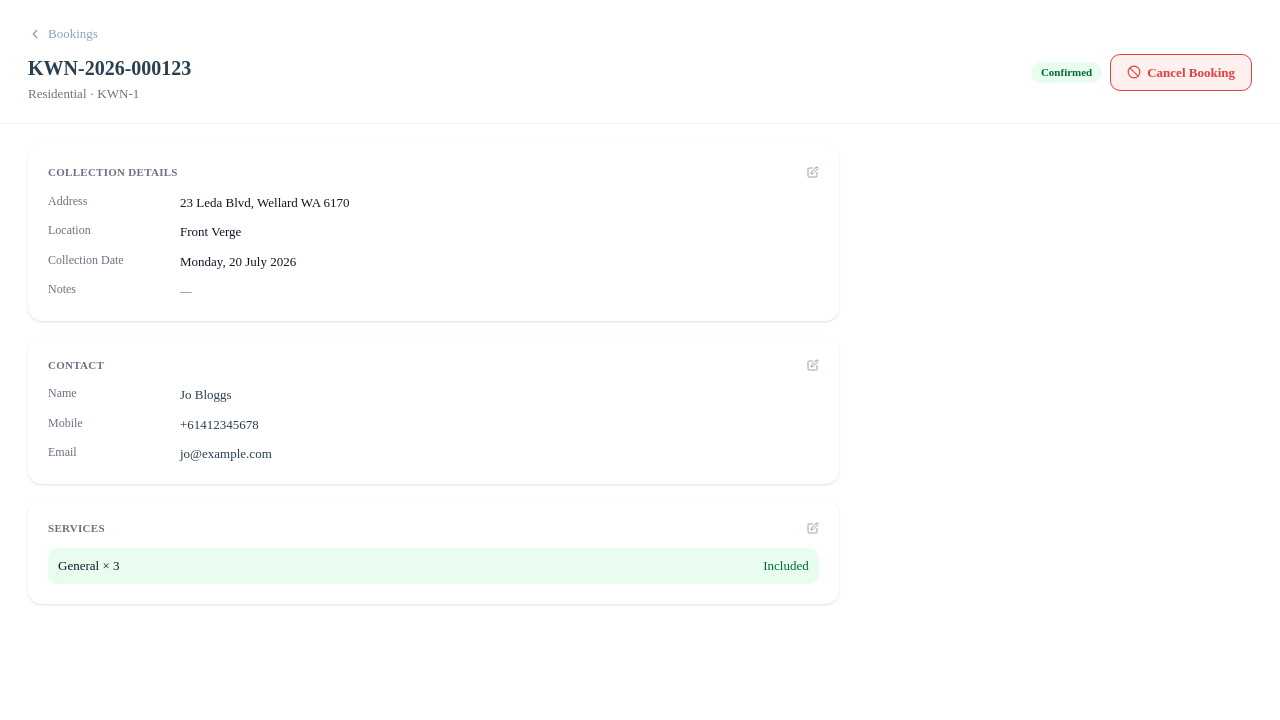
Test case: admin Collection Details editor — staff-only "Other" location › offers "Other" to contractor-admin
Click the button named "Edit collection details": (813, 172) [807, 166, 819, 178]
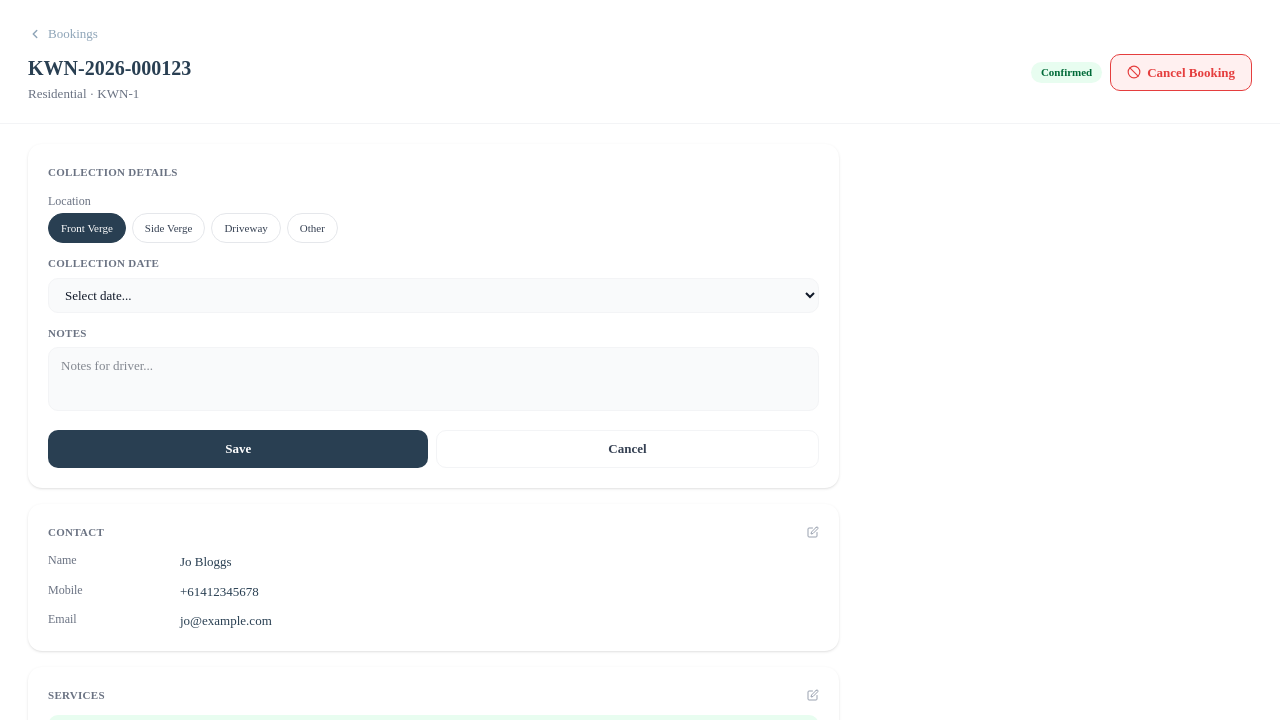
expect the button "Other" is shown: met, box [287, 212, 338, 243]
